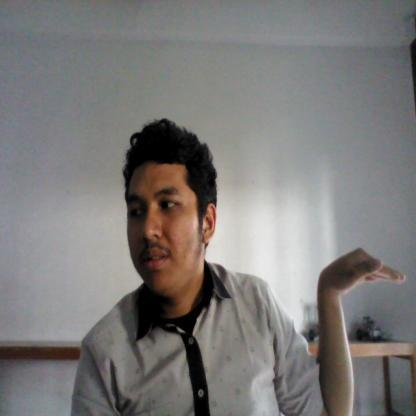Z: (314, 246, 406, 415)
